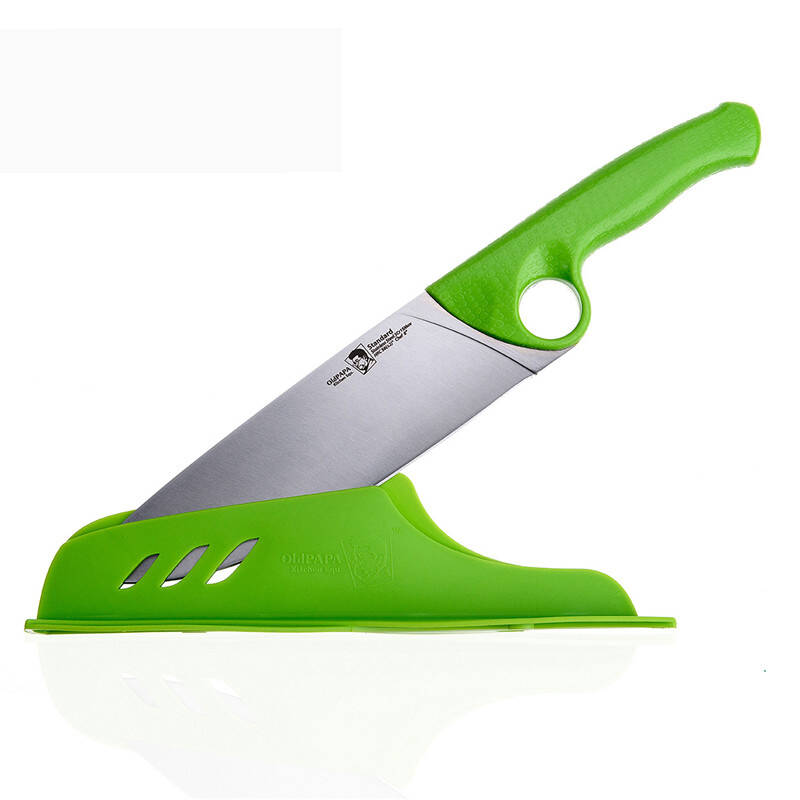knief: (84, 84, 764, 580)
